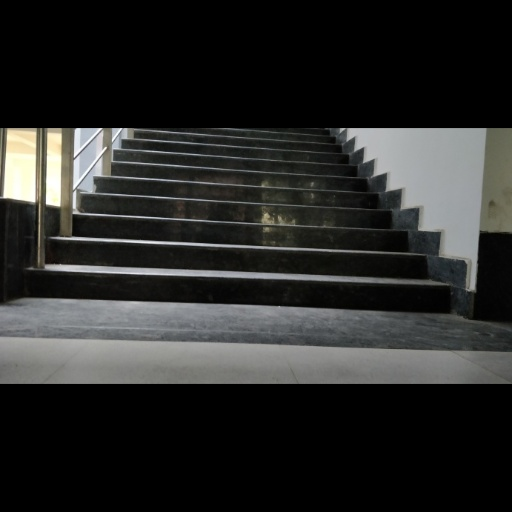Stairs: (28, 129, 450, 312)
